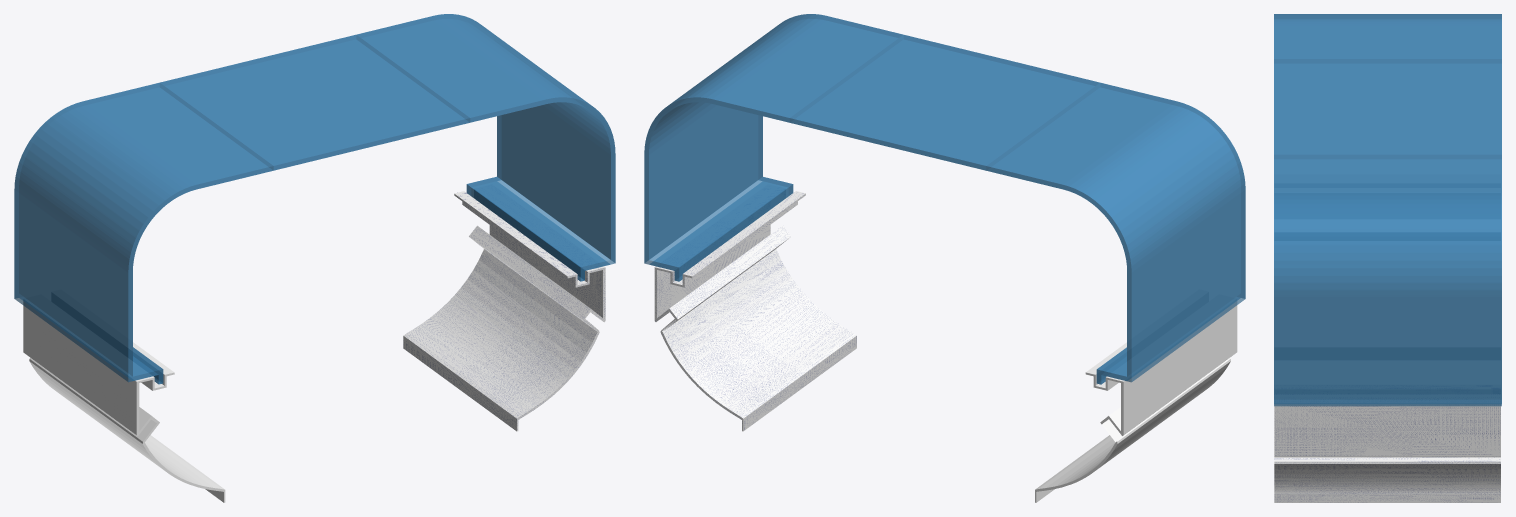
Rendered from 2_Module.fbx.
The picture shows the model from 3 angles, left to right: view 1: azimuth 30°, elevation 25°; view 2: azimuth 150°, elevation 25°; view 3: azimuth 270°, elevation 25°; orthographic projection.
Visible parts, largest first — view 1: Group2, Group1, Group3, Group5, Group4; view 2: Group2, Group1, Group3, Group5, Group4; view 3: Group1, Group5, Group3, Group2.
Part boxes in pixels (<box>): Group2: <box>14,82,273,384</box>; Group1: <box>357,14,615,281</box>; Group3: <box>403,191,605,431</box>; Group5: <box>160,34,470,170</box>; Group4: <box>23,301,225,502</box>; Group2: <box>986,82,1245,384</box>; Group1: <box>644,14,902,281</box>; Group3: <box>654,191,856,431</box>; Group5: <box>789,34,1099,170</box>; Group4: <box>1035,301,1237,502</box>; Group1: <box>1274,154,1501,406</box>; Group5: <box>1274,59,1501,158</box>; Group3: <box>1274,404,1500,502</box>; Group2: <box>1274,14,1501,58</box>.
Bounding box in the file's own units: 64.2 × 40.93 × 26.
